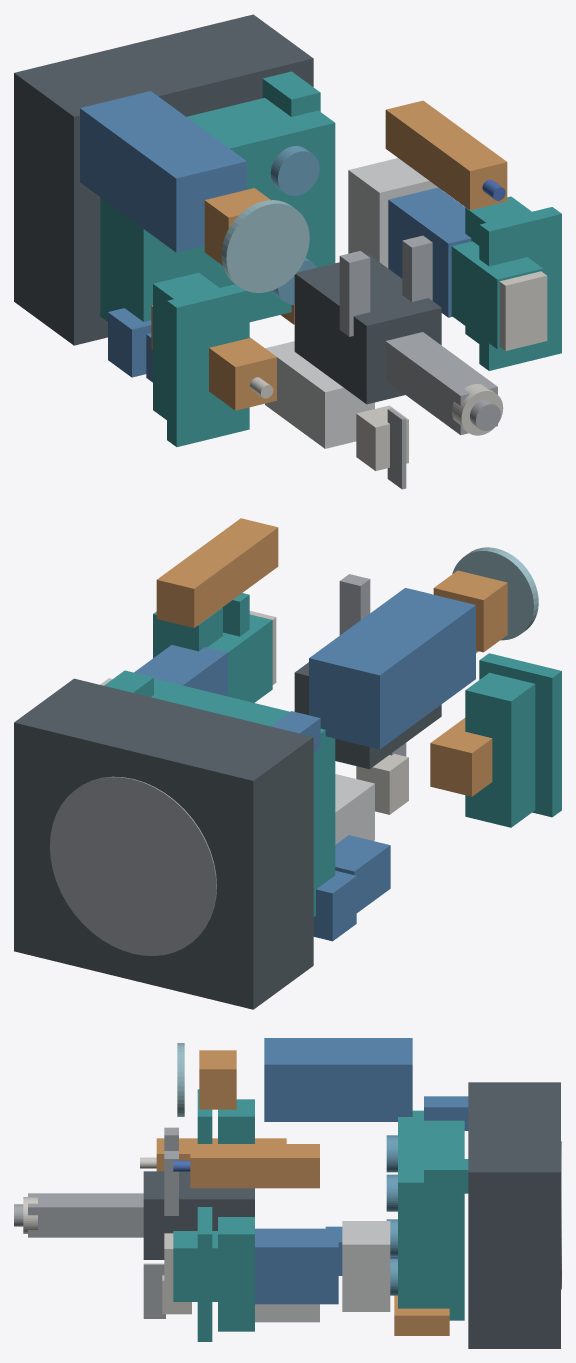
Rendered from dranmar_tumor_resection_tool_correct.glb.
3 renders of one model, top to bottom at view 1: azimuth 30°, elevation 25°; view 2: azimuth 150°, elevation 25°; view 3: azimuth 270°, elevation 25°, orthographic. The views are drawn at different scales.
Parts seen in each view (by area): view 1: Mount_MountBody, SensorTurret_SensorTurretBody, BagDeployer_BagDeployerBody, AspiratorCarriage_AspiratorCarriageBody, LeftTraction_LeftPad, MarginMarker_MarginMarkerBody, RightTraction_RightPad, BagDeployer_BagRing, ScissorCarriage_ScissorCarriageBody, AspiratorRotor_AspiratorRotorBody, UltrasoundPitch_UltrasoundPitchBody, UltrasoundCarriage_UltrasoundCarriageBody (+15 smaller); view 2: Mount_MountBody, Mount_MountRing, BagDeployer_BagDeployerBody, LeftTraction_LeftTractionBody, MarginMarker_MarginMarkerBody, SensorTurret_SensorTurretBody, LeftTraction_LeftPad, RamanProbe_RamanProbeBody, UltrasoundCompliance_UltrasoundComplianceBody, BagDeployer_BagRing, BagClosure_BagClosureBody, UltrasoundPitch_UltrasoundPitchBody (+10 smaller); view 3: Mount_MountBody, BagDeployer_BagDeployerBody, SensorTurret_SensorTurretBody, UltrasoundPitch_UltrasoundPitchBody, MarginMarker_MarginMarkerBody, AspiratorRotor_AspiratorRotorBody, AspiratorCarriage_AspiratorCarriageBody, UltrasoundCarriage_UltrasoundCarriageBody, RightTraction_RightTractionBody, BagClosure_BagClosureBody, UltrasoundCompliance_UltrasoundComplianceBody, RightTraction_RightPad (+15 smaller).
Boxes of the visible parts, x1,y1,x2,y2 form: Mount_MountBody: (14,14,313,345); SensorTurret_SensorTurretBody: (100,98,335,322); BagDeployer_BagDeployerBody: (80,91,246,252); AspiratorCarriage_AspiratorCarriageBody: (294,255,441,404); LeftTraction_LeftPad: (167,284,249,446); MarginMarker_MarginMarkerBody: (385,100,507,210); RightTraction_RightPad: (479,207,561,370); BagDeployer_BagRing: (221,200,309,292); ScissorCarriage_ScissorCarriageBody: (265,341,374,448); AspiratorRotor_AspiratorRotorBody: (385,332,497,435); UltrasoundPitch_UltrasoundPitchBody: (388,187,471,317); UltrasoundCarriage_UltrasoundCarriageBody: (348,158,438,268); Mount_MountBody: (14,678,313,1009); Mount_MountRing: (50,776,216,955); BagDeployer_BagDeployerBody: (309,588,475,749); LeftTraction_LeftTractionBody: (465,672,535,827); MarginMarker_MarginMarkerBody: (156,518,278,627); SensorTurret_SensorTurretBody: (151,678,335,916); LeftTraction_LeftPad: (479,653,561,817); RamanProbe_RamanProbeBody: (430,718,492,796); UltrasoundCompliance_UltrasoundComplianceBody: (207,614,272,702); BagDeployer_BagRing: (452,547,538,640); BagClosure_BagClosureBody: (433,570,507,652); UltrasoundPitch_UltrasoundPitchBody: (134,645,227,696); Mount_MountBody: (468,1082,560,1348); BagDeployer_BagDeployerBody: (264,1038,412,1121); SensorTurret_SensorTurretBody: (398,1110,464,1320); UltrasoundPitch_UltrasoundPitchBody: (255,1228,338,1304); MarginMarker_MarginMarkerBody: (190,1144,319,1188); AspiratorRotor_AspiratorRotorBody: (28,1193,143,1237); AspiratorCarriage_AspiratorCarriageBody: (143,1171,254,1259); UltrasoundCarriage_UltrasoundCarriageBody: (342,1221,390,1311); RightTraction_RightTractionBody: (218,1217,254,1331); BagClosure_BagClosureBody: (199,1050,236,1109); UltrasoundCompliance_UltrasoundComplianceBody: (173,1231,217,1301); RightTraction_RightPad: (197,1207,212,1341).
Size of the model in its own units: 0.185 by 0.136 by 0.2955.
